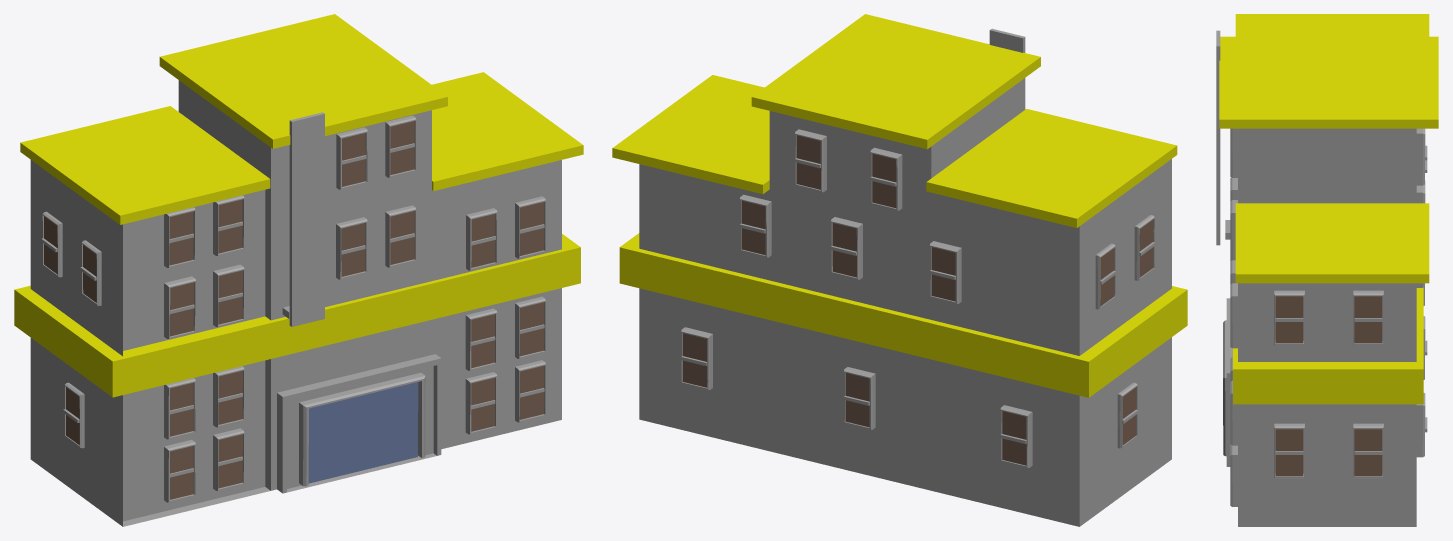
File: School.fbx
3 views of the same model, side by side, from view 1: azimuth 30°, elevation 25°; view 2: azimuth 150°, elevation 25°; view 3: azimuth 270°, elevation 25° (orthographic). The views are drawn at different scales.
Parts seen in each view (by area): view 1: pCube95, pCube100, pCube97, pCube98, pCube99, polySurface375, pCube96, pCube102, polySurface469, polySurface474, polySurface133, polySurface379 (+27 smaller); view 2: pCube95, pCube100, pCube97, pCube98, pCube99, polySurface425, polySurface450, polySurface455, polySurface430, polySurface435, polySurface440, polySurface445 (+5 smaller); view 3: pCube95, pCube97, pCube99, pCube100, pCube98, polySurface413, polySurface420, polySurface378, polySurface418, pCube96, pCube102, polySurface375 (+11 smaller).
Boxes of the visible parts, x1,y1,x2,y2 form: pCube95: [30, 80, 561, 526]; pCube100: [14, 234, 580, 397]; pCube97: [159, 14, 447, 148]; pCube98: [20, 106, 270, 224]; pCube99: [432, 72, 583, 190]; polySurface375: [299, 373, 425, 486]; pCube96: [289, 112, 324, 326]; pCube102: [277, 354, 441, 493]; polySurface469: [169, 211, 193, 265]; polySurface474: [218, 199, 242, 253]; polySurface133: [218, 270, 242, 324]; polySurface379: [218, 434, 242, 488]; pCube95: [639, 79, 1171, 526]; pCube100: [619, 233, 1187, 397]; pCube97: [751, 14, 1040, 149]; pCube98: [926, 109, 1177, 227]; pCube99: [612, 75, 769, 193]; polySurface425: [1002, 411, 1026, 465]; polySurface450: [741, 200, 765, 255]; polySurface455: [931, 247, 955, 301]; polySurface430: [845, 373, 869, 427]; polySurface435: [796, 135, 820, 189]; polySurface440: [872, 153, 896, 207]; polySurface445: [832, 223, 856, 277]; pCube95: [1238, 128, 1416, 526]; pCube97: [1219, 36, 1438, 128]; pCube99: [1235, 203, 1429, 283]; pCube100: [1233, 287, 1423, 404]; pCube98: [1235, 14, 1429, 36]; polySurface413: [1354, 429, 1382, 476]; polySurface420: [1354, 296, 1382, 343]; polySurface378: [1275, 429, 1303, 476]; polySurface418: [1275, 296, 1303, 343]; pCube96: [1216, 30, 1220, 245]; pCube102: [1226, 298, 1232, 466]; polySurface375: [1223, 320, 1226, 456].
Bounding box in the file's own units: 69.52 × 52.72 × 29.27.
